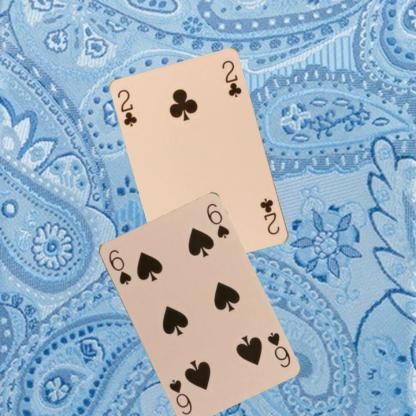2c: (115, 87, 139, 128), (258, 196, 281, 236)
6s: (105, 246, 133, 286), (264, 328, 291, 368)
